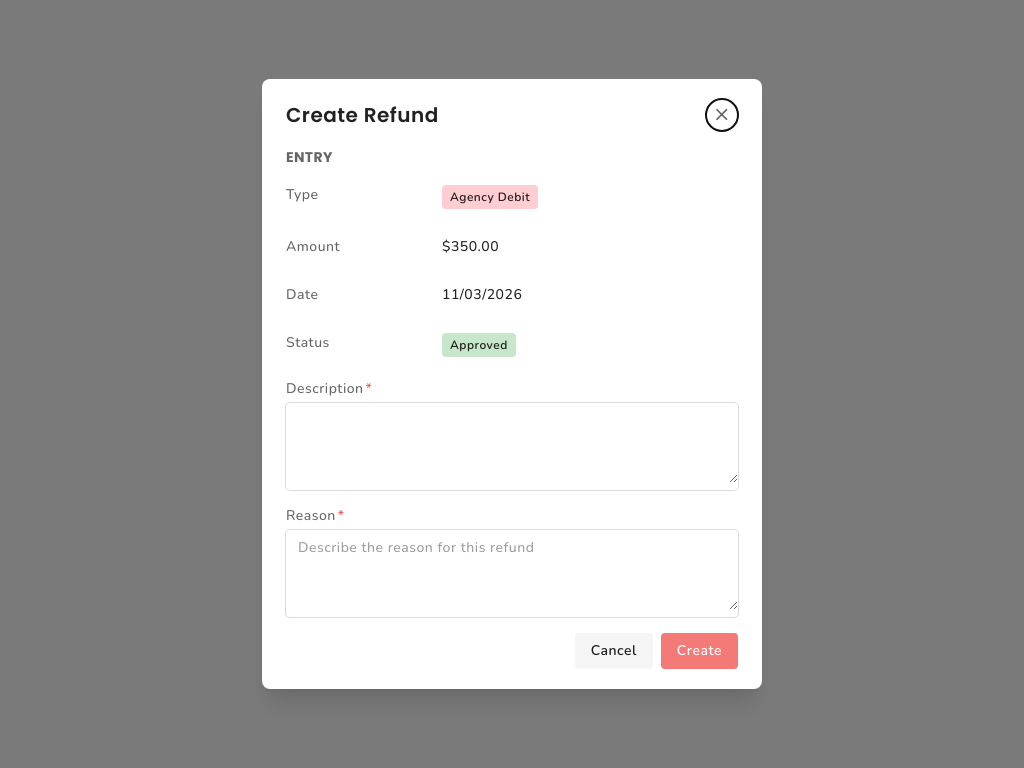
Scenario: CreateRefundModal › surfaces the backend error message in the snackbar on failure
Type "Refund requested" into the text box named "Description" at (512, 443), box [286,403,738,483]
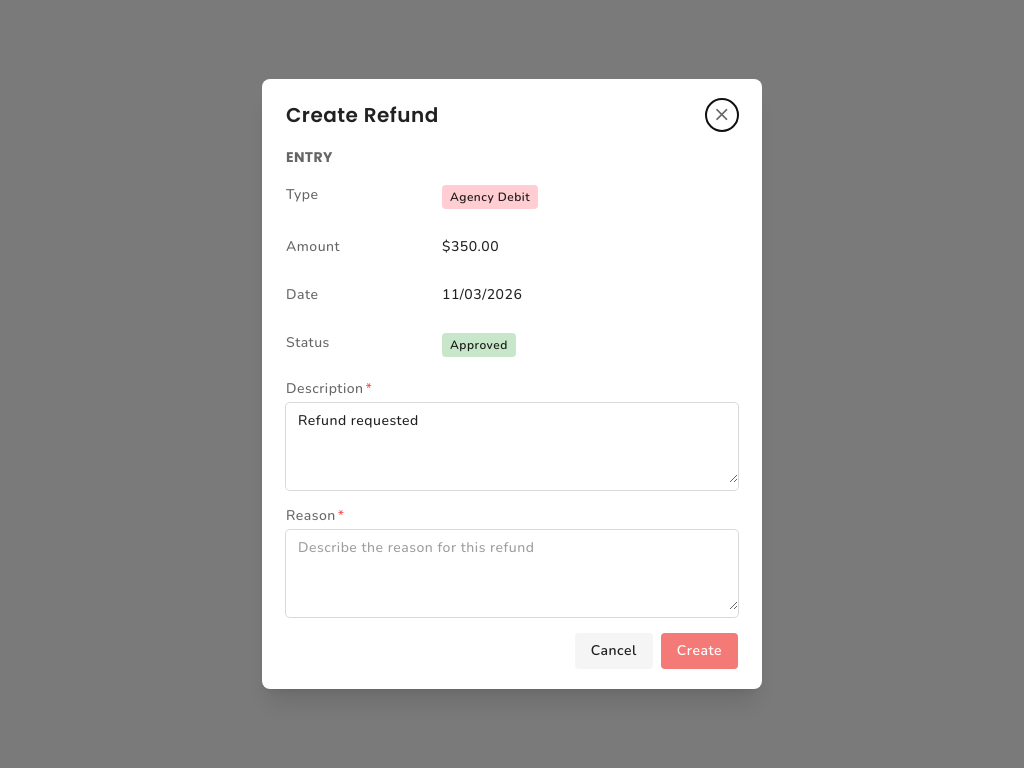
Type "Customer overpaid" into the text box labelled "reason" at (512, 570), box [286,530,738,610]
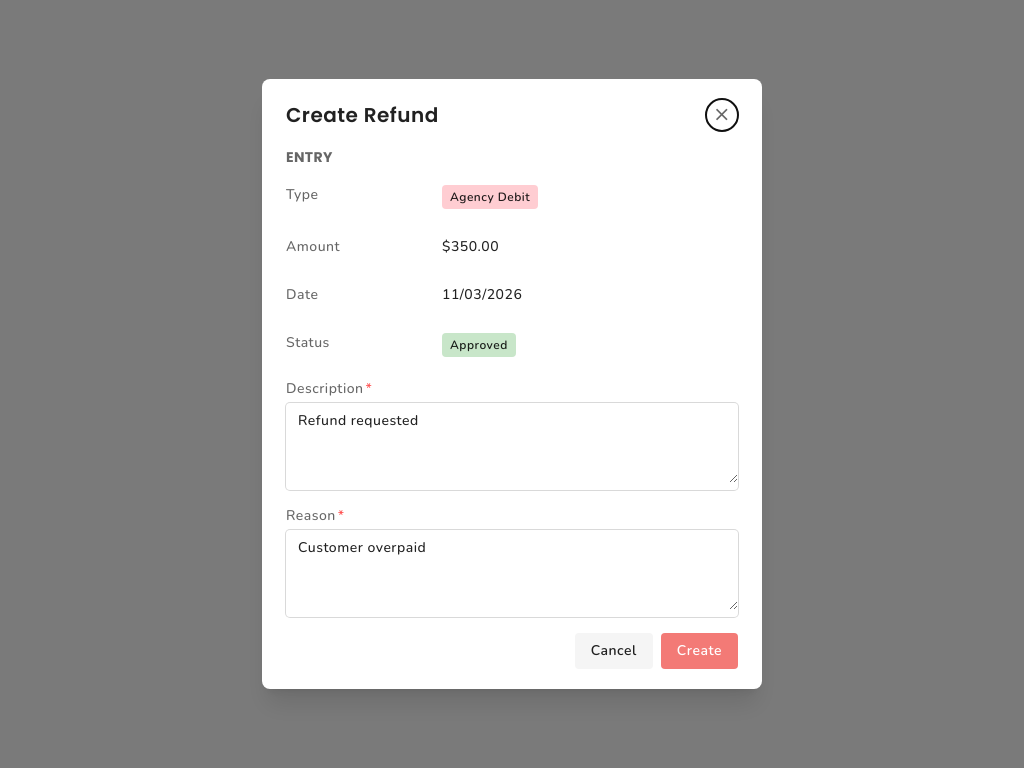
Click the button "Create" at (699, 651), box [661,633,738,669]
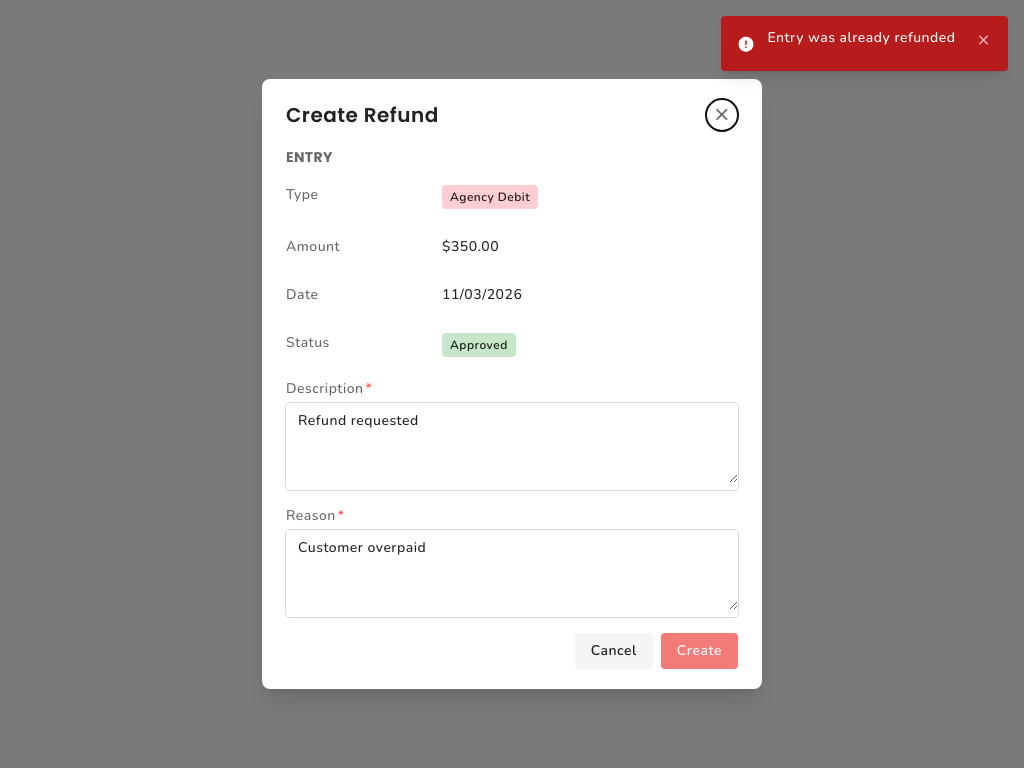
Expected: the text "Entry was already refunded" is shown, [767,28,956,48]
